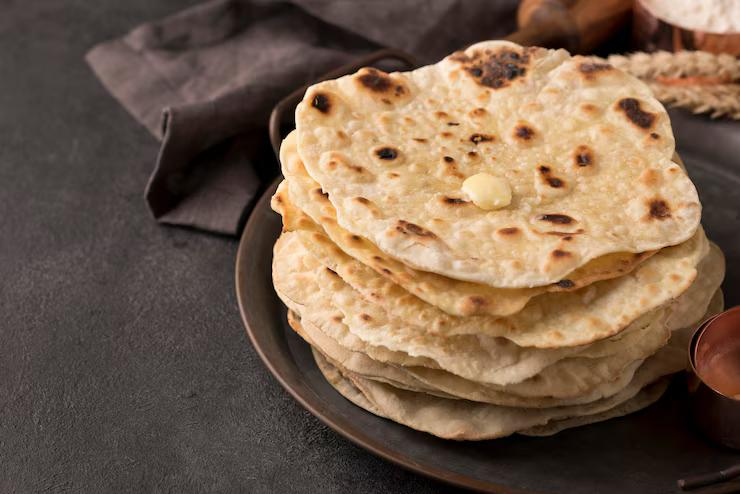roti phulka: (265, 39, 726, 440)
